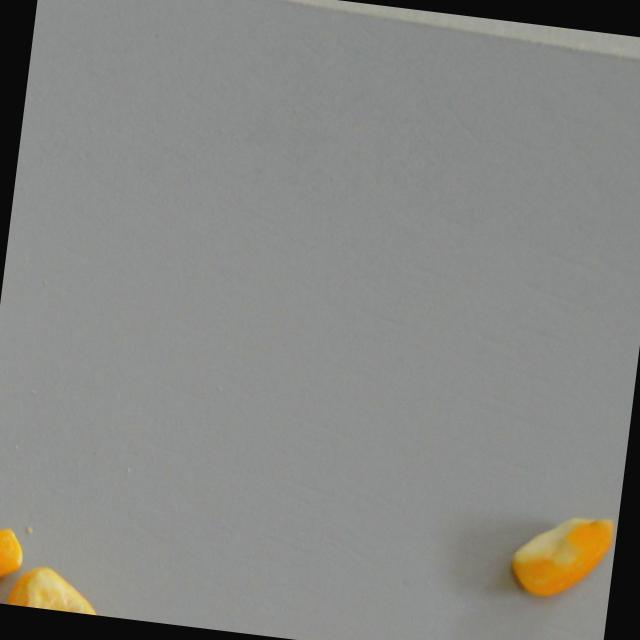dañado: (4, 559, 110, 616)
pelicula: (0, 540, 29, 601)
punto_negro: (502, 504, 618, 607)
